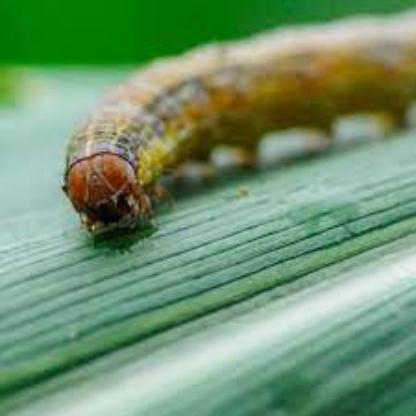oruga: (35, 6, 414, 248)
